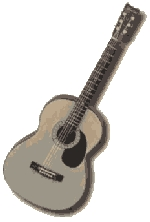guitar: (2, 1, 145, 214)
